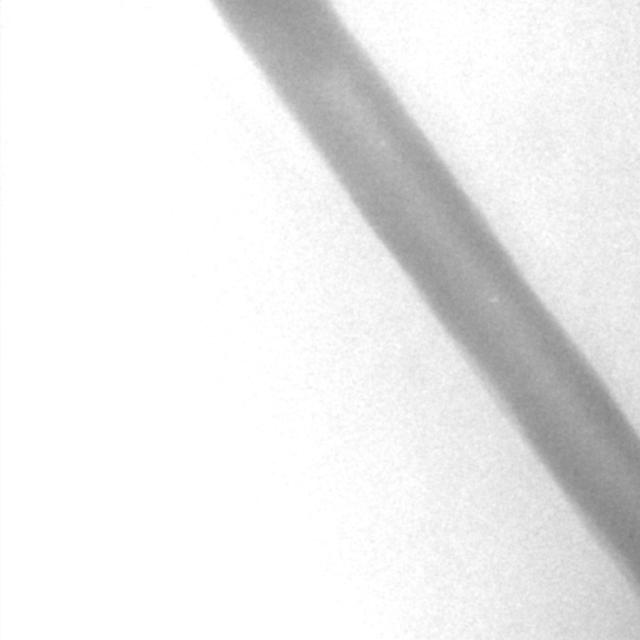air hole: (487, 290, 500, 307), (374, 135, 387, 150)
